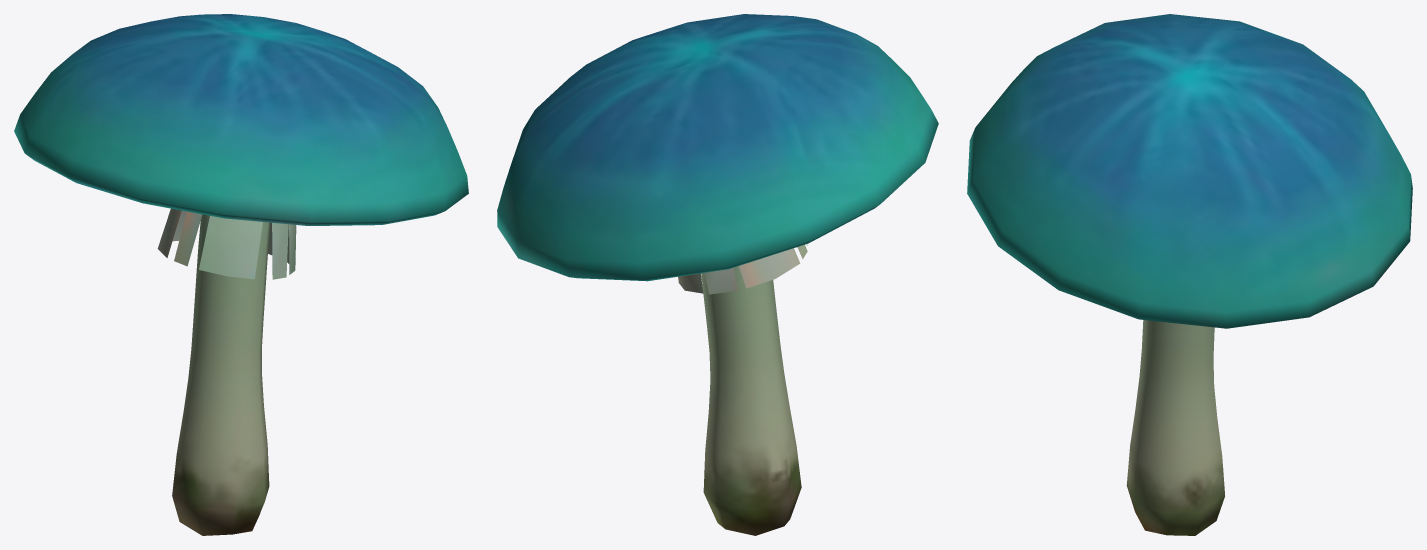
Rendered from Shroom3-optimized.glb.
3 renders of one model, left to right at view 1: azimuth 30°, elevation 25°; view 2: azimuth 150°, elevation 25°; view 3: azimuth 270°, elevation 25°, orthographic.
Parts seen in each view (by area): view 1: Vert.018; view 2: Vert.018; view 3: Vert.018.
Boxes of the visible parts, bbox=[...] form: Vert.018: bbox=[14, 14, 468, 535]; Vert.018: bbox=[497, 14, 938, 535]; Vert.018: bbox=[967, 14, 1412, 535].
Size of the model in its own units: 0.5459 by 0.6711 by 0.5565.
1 material, 1 textured.
